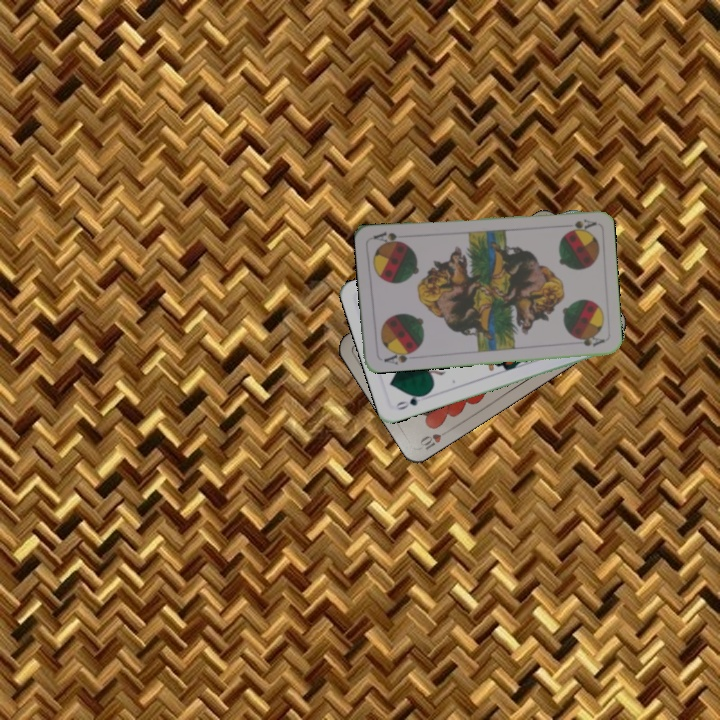GO: (391, 389, 430, 413)
H10: (416, 425, 453, 453)
SA: (380, 346, 418, 367), (557, 215, 598, 233)
